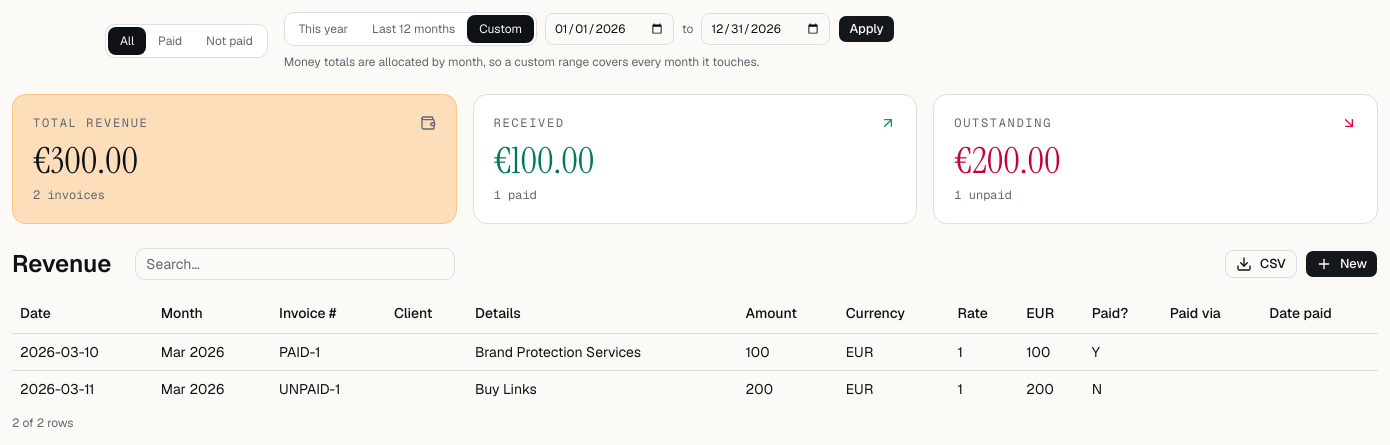
Revenue paid filter › shows only the paid ones under Paid
This screenshot has width=1390, height=445.
Click the button "Paid": (170, 41) left=146, top=27, right=194, bottom=55
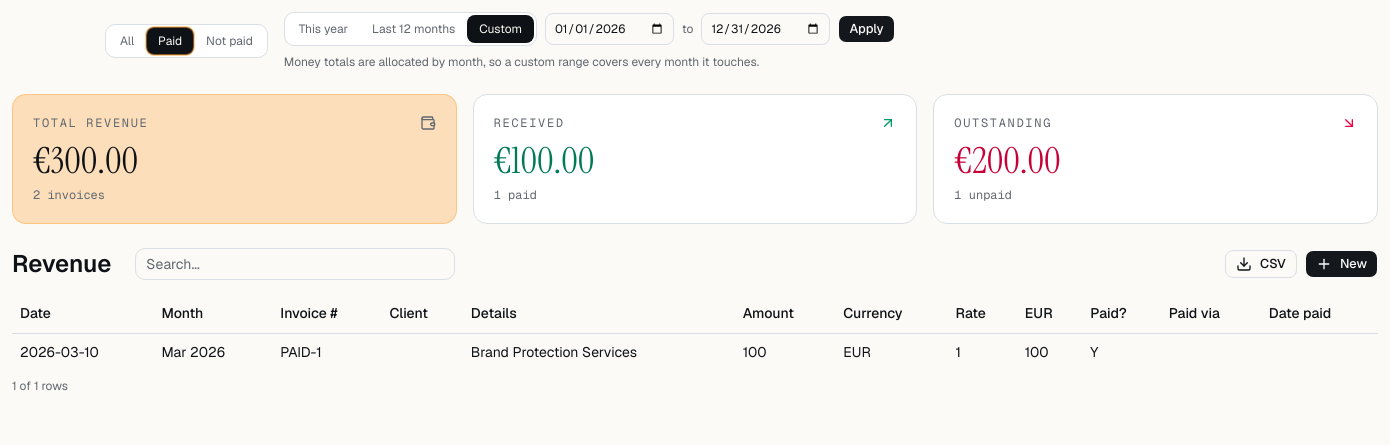
Expected: the text "PAID-1" is shown, left=272, top=333, right=382, bottom=370
Expected: the text "UNPAID-1" is gone
